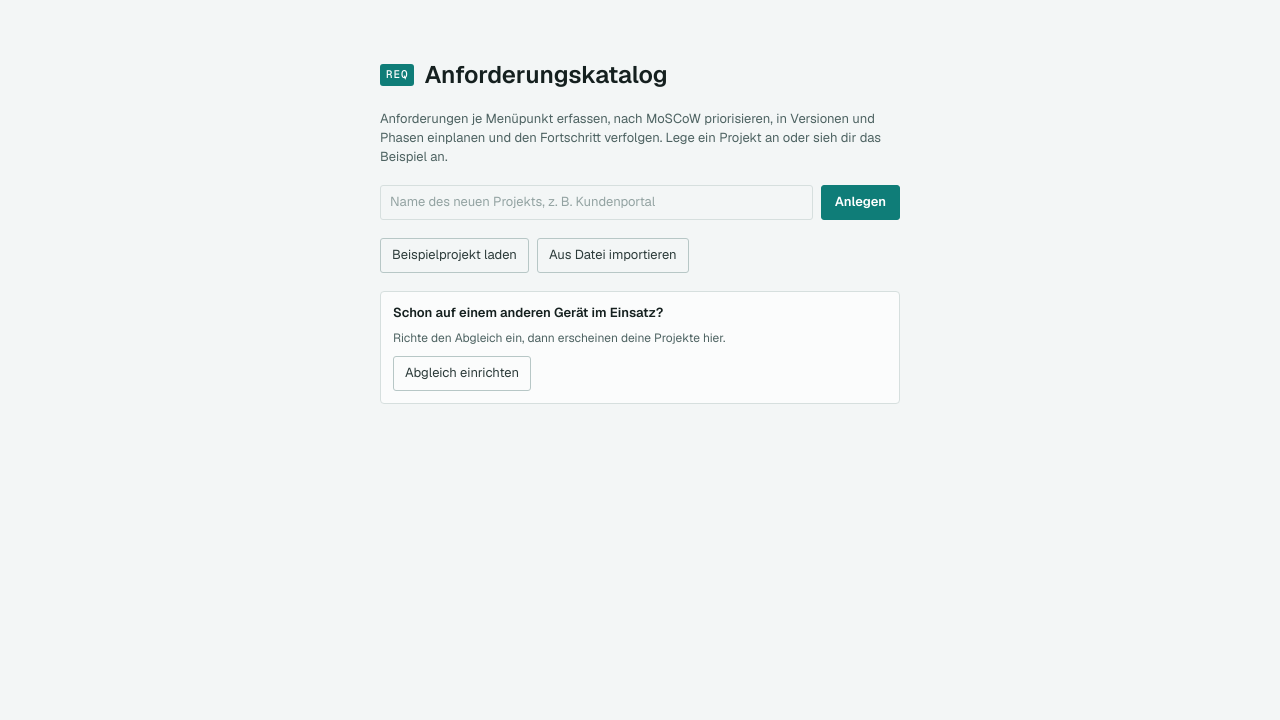
Oberfläche › begrüßt ohne Projekt und lädt das Beispiel
The image size is (1280, 720).
Click the button "Beispielprojekt laden" at (454, 255), box top-left (380, 238), bottom-right (529, 273)
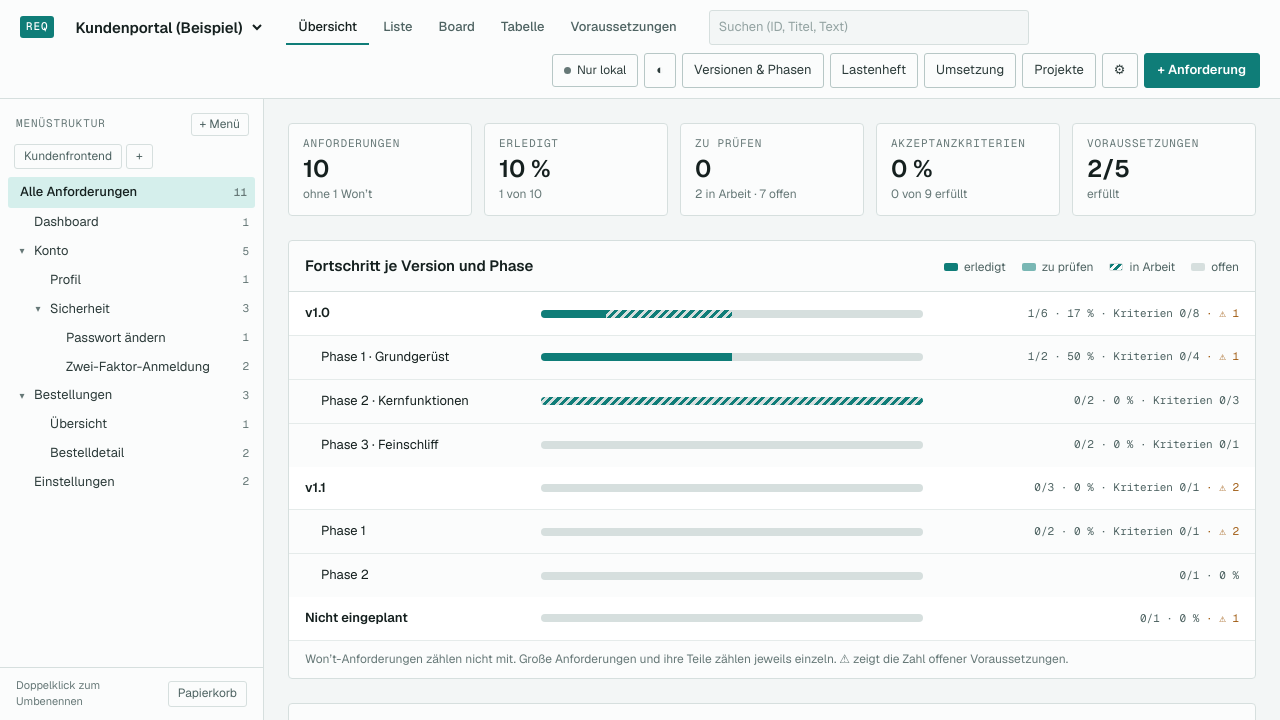
Expected: the text "Fortschritt je Version und Phase" is shown, top-left (305, 255), bottom-right (533, 277)
